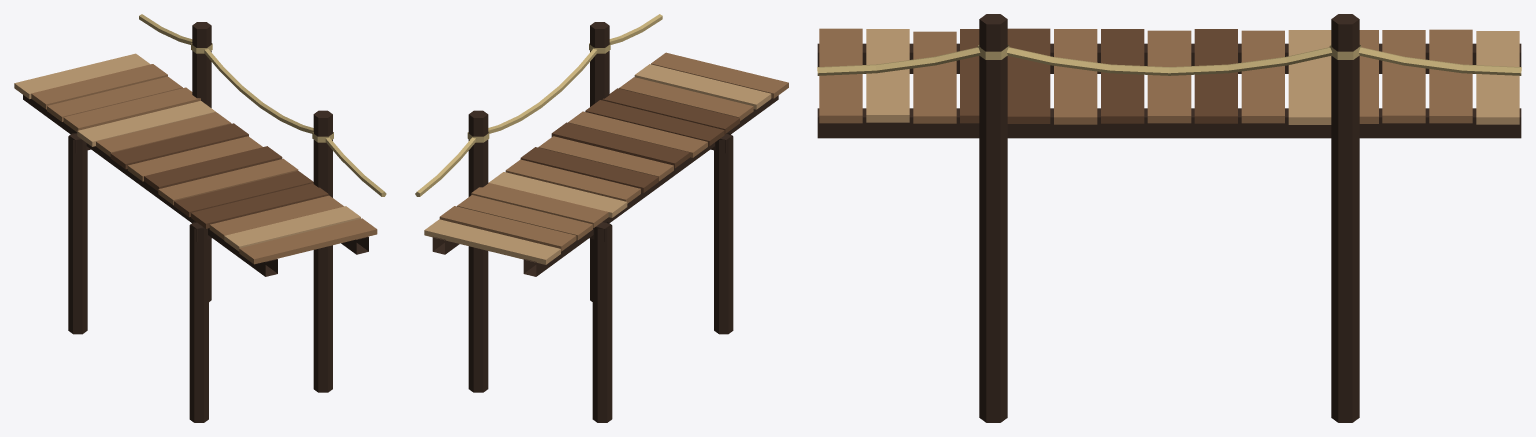
The model's file is boardwalk_segment.fbx.
The picture shows the model from 3 angles, left to right: view 1: azimuth 30°, elevation 25°; view 2: azimuth 150°, elevation 25°; view 3: azimuth 270°, elevation 25°; orthographic projection. The views are drawn at different scales.
Visible parts, largest first — view 1: boardwalk_segment; view 2: boardwalk_segment; view 3: boardwalk_segment.
Boxes of the visible parts, x1=… form: boardwalk_segment: x1=14, y1=14, x2=386, y2=422; boardwalk_segment: x1=415, y1=14, x2=788, y2=422; boardwalk_segment: x1=817, y1=14, x2=1521, y2=422.
Bounding box in the file's own units: 1.99 × 3.75 × 6.
